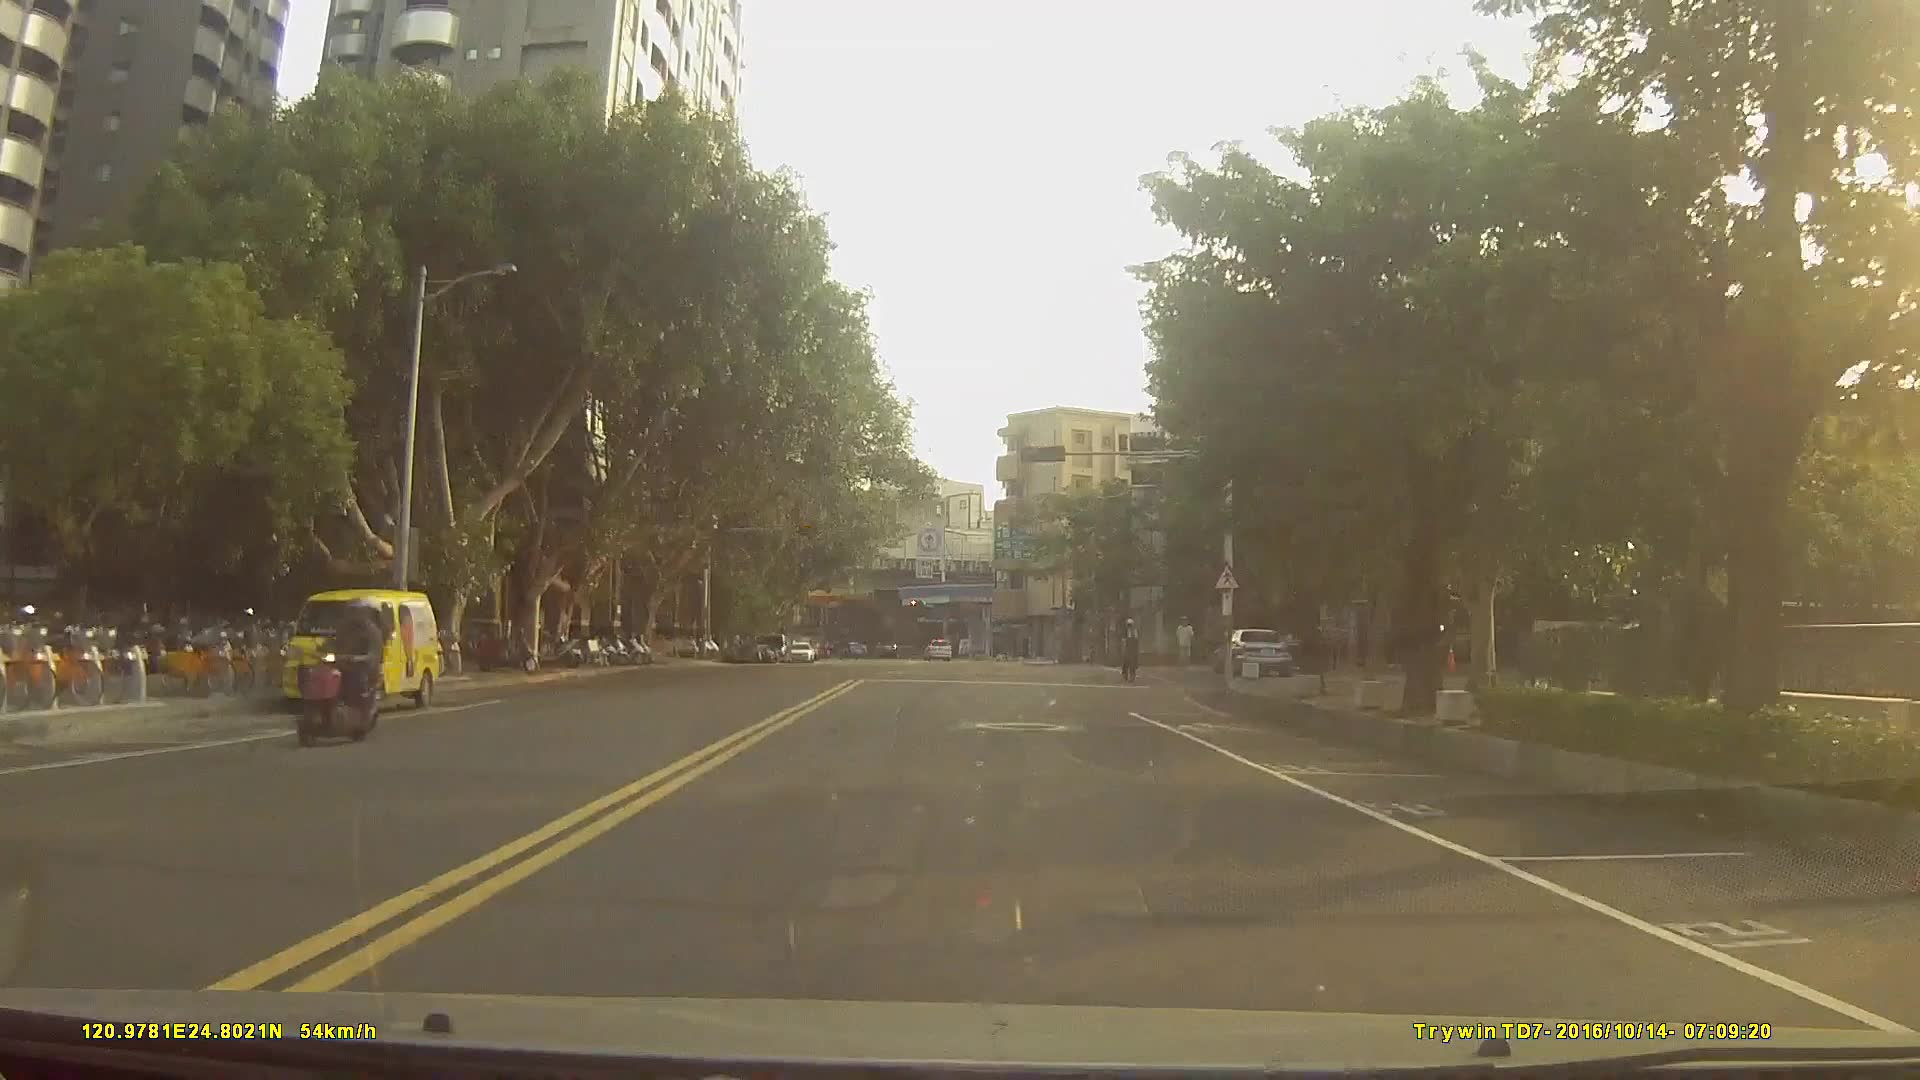pedestrian: (1176, 617, 1198, 681)
rider: (292, 597, 391, 749), (1118, 618, 1144, 680)
vehicle: (1209, 628, 1294, 677), (925, 637, 952, 662), (786, 639, 817, 661)
